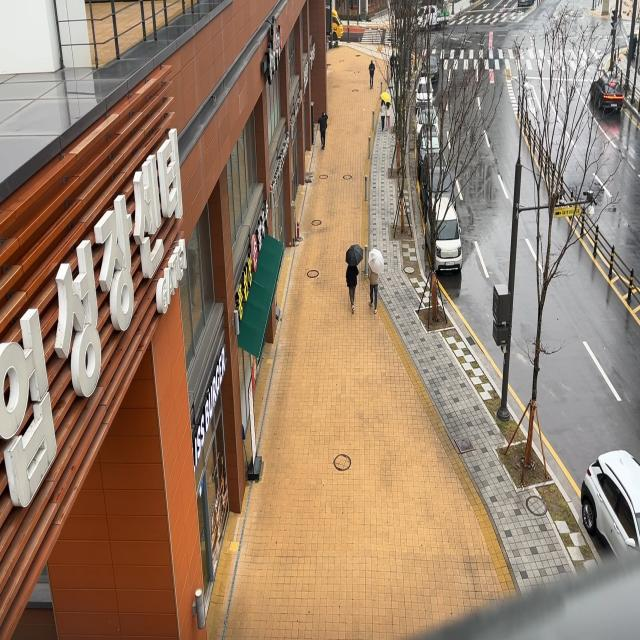Car: (567, 426, 640, 576), (420, 193, 470, 271), (582, 62, 629, 124), (418, 152, 464, 210), (416, 114, 456, 166), (412, 67, 440, 107), (418, 48, 444, 86), (415, 104, 448, 132)
Truck: (402, 0, 457, 36), (328, 6, 348, 51)
